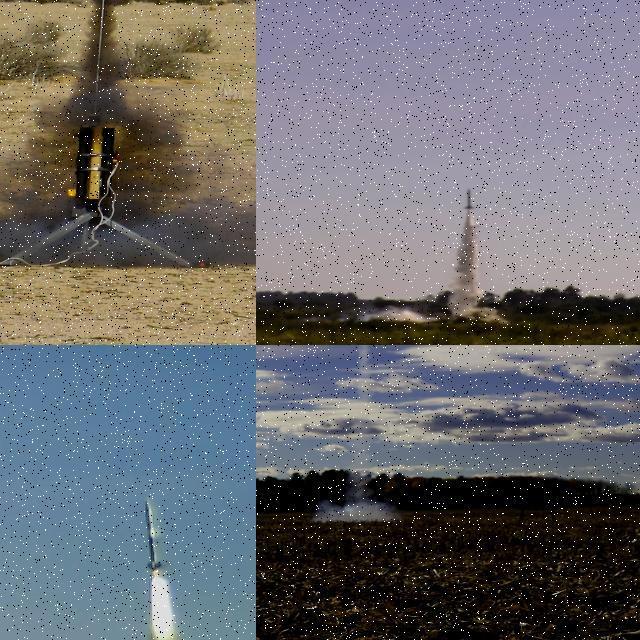Rocket: (144, 498, 162, 570), (464, 189, 475, 209)
